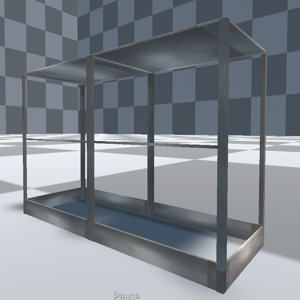Rack: (21, 15, 268, 294)
